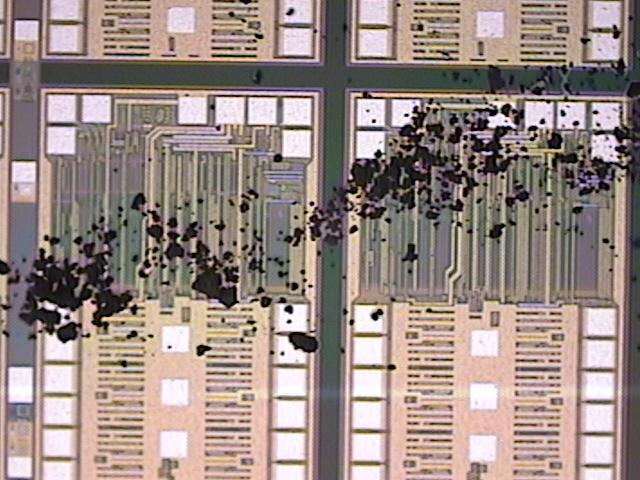PO CONTAMINATION: (1, 1, 640, 375)
